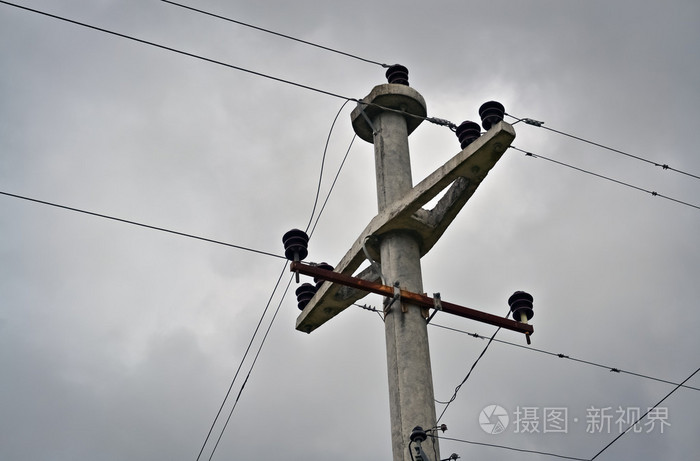insulator: (506, 292, 536, 322), (476, 100, 508, 126), (281, 231, 311, 256), (454, 119, 480, 147), (383, 63, 411, 86), (293, 284, 312, 311)
